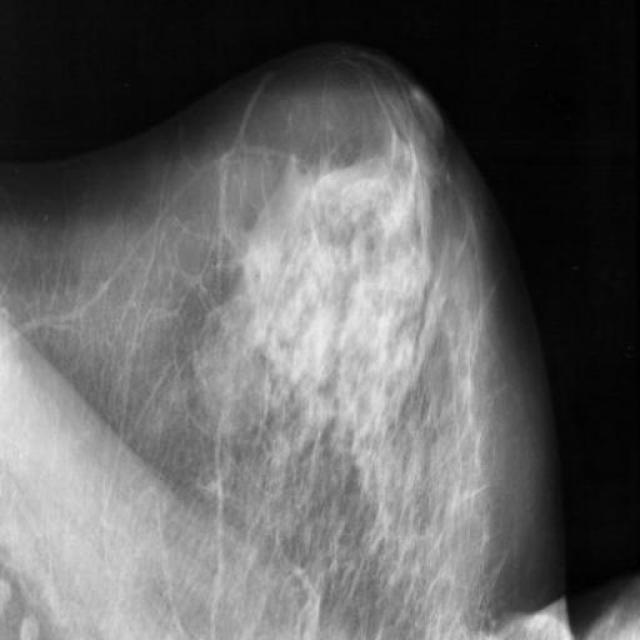cancer: (400, 116, 470, 200)
